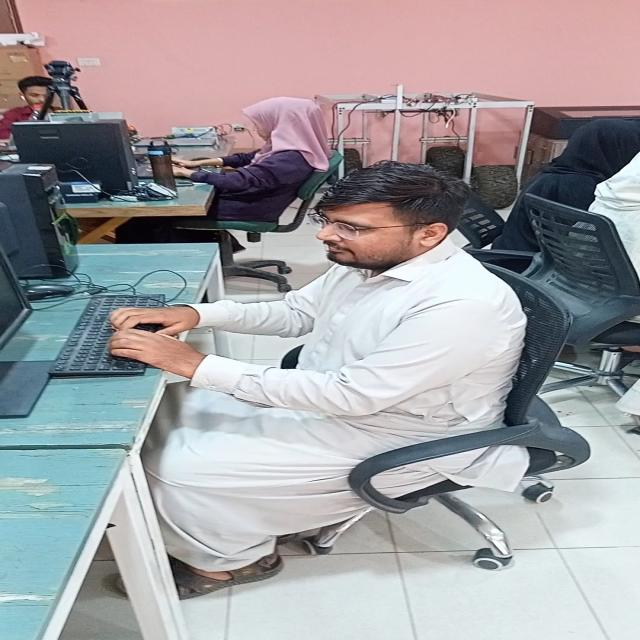dress: (147, 233, 532, 582)
glasses: (305, 213, 366, 242)
